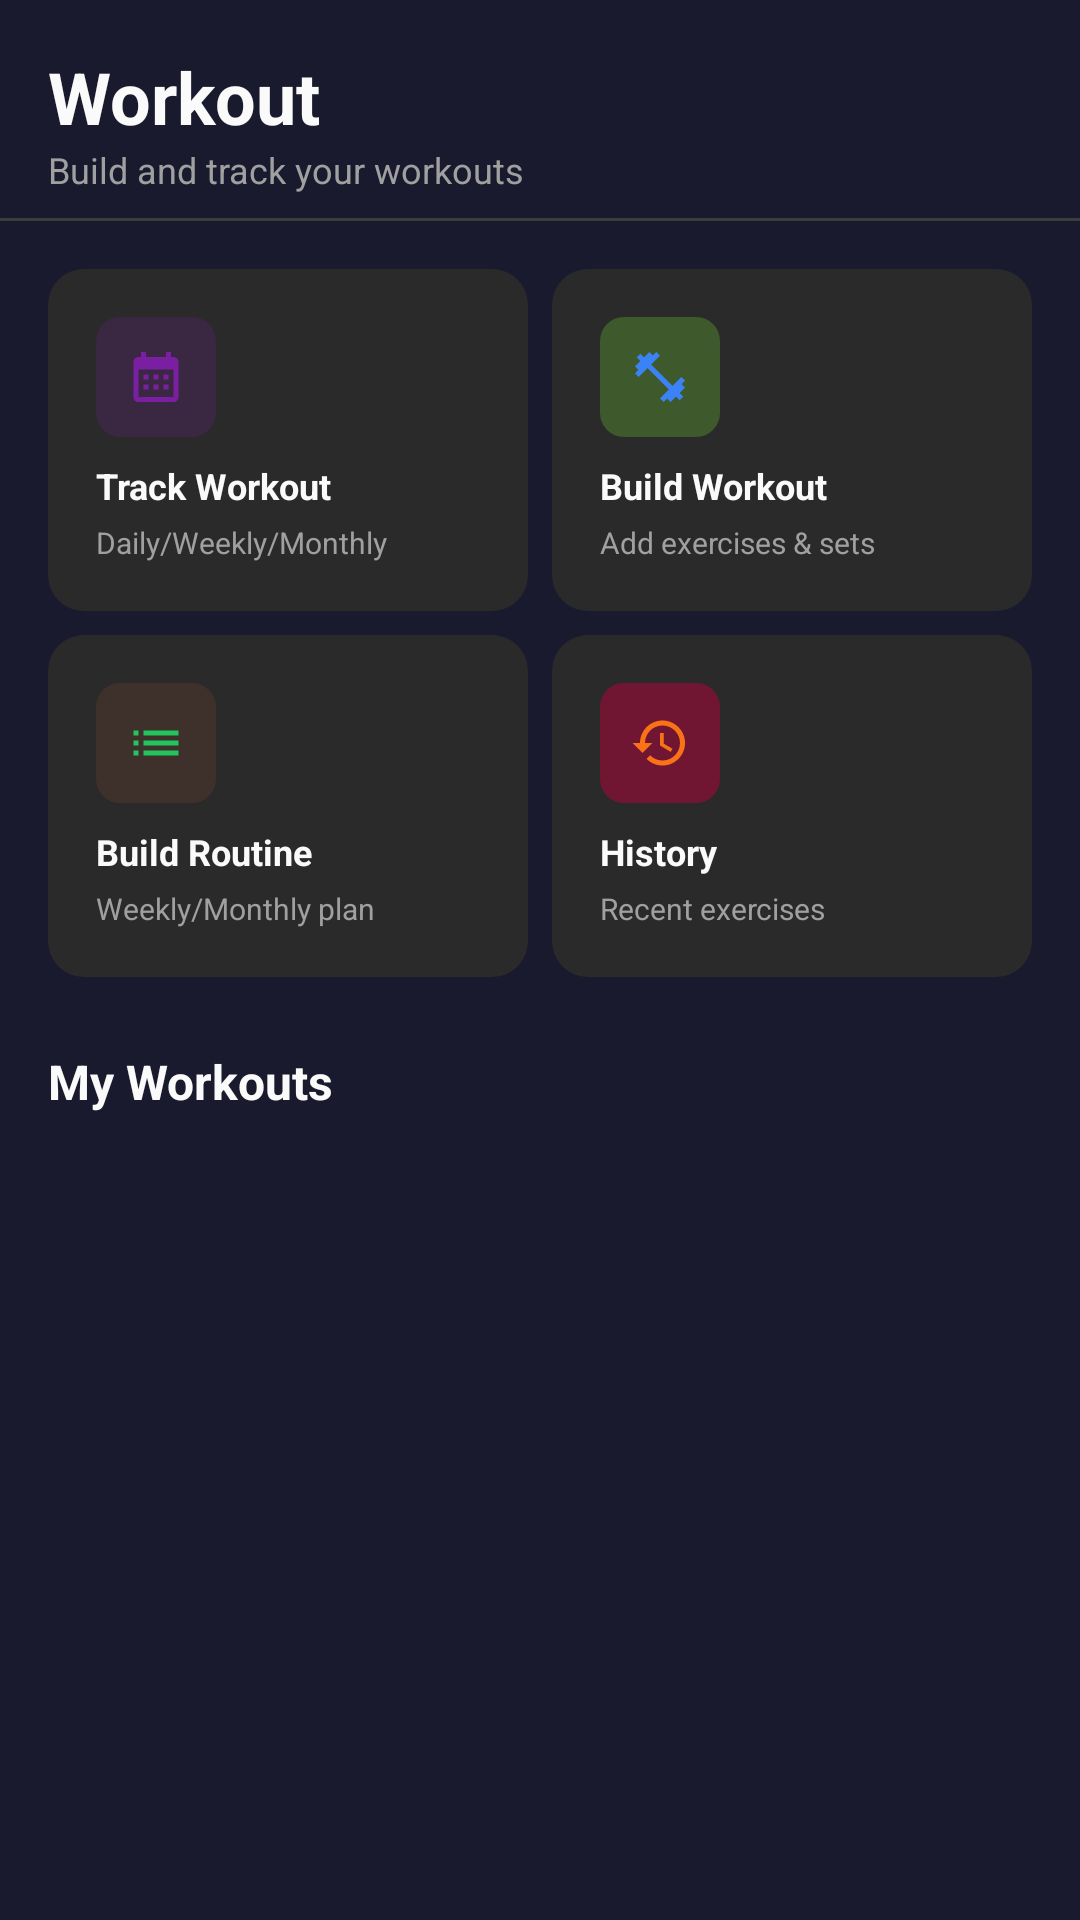

Named icons in this screenshot (1080 x 1920) and their centers, [x,y]:
calendar: [156,377]
dumbbell: [660,377]
list: [156,743]
